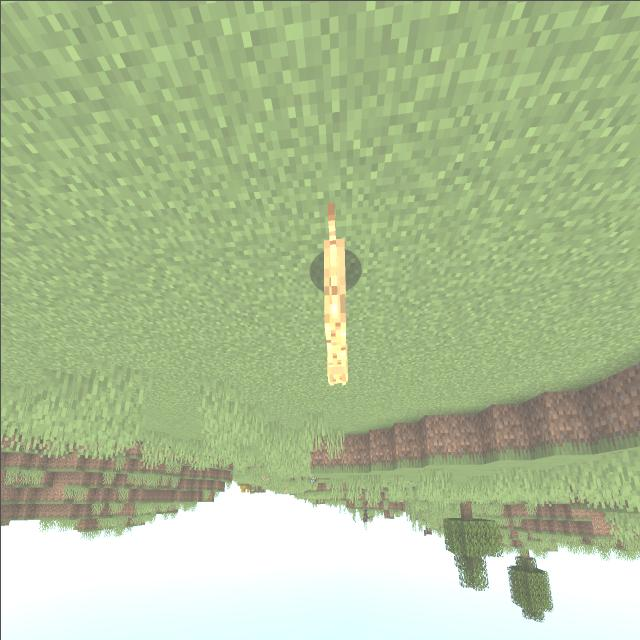Ocelot: (312, 193, 355, 396)
